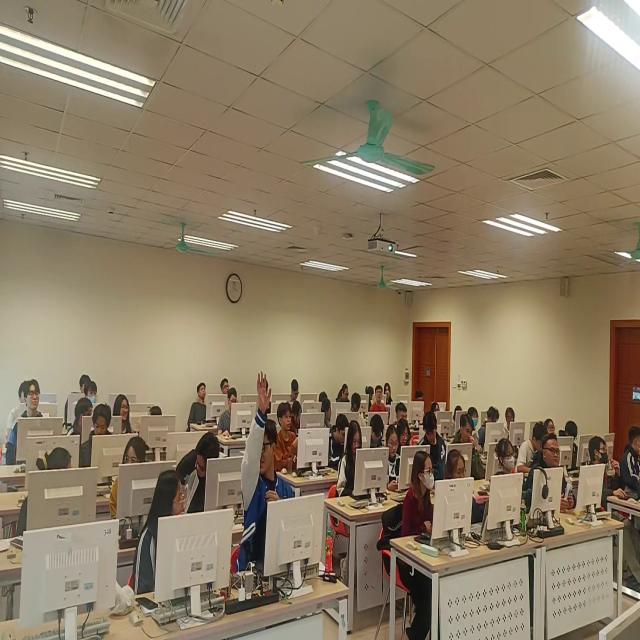raise_hand: (241, 368, 294, 571)
raise_head: (528, 434, 577, 514), (10, 380, 42, 468), (277, 399, 299, 470), (7, 381, 27, 442), (187, 381, 210, 429), (494, 437, 521, 472), (112, 390, 132, 433), (469, 405, 485, 452), (373, 384, 387, 415), (86, 380, 100, 404), (506, 407, 516, 433), (545, 415, 557, 436), (384, 381, 393, 403), (220, 378, 232, 394), (80, 371, 89, 392), (432, 398, 442, 413)
using_computer: (445, 449, 489, 537), (400, 448, 437, 538), (588, 435, 623, 507), (339, 421, 363, 499), (517, 419, 545, 473), (623, 424, 640, 504), (220, 384, 240, 442), (327, 414, 348, 469), (561, 420, 583, 472), (481, 404, 501, 445), (349, 391, 367, 425), (423, 409, 440, 441), (385, 421, 399, 458), (369, 414, 384, 446), (396, 416, 411, 445), (292, 401, 306, 432), (337, 377, 352, 404), (453, 404, 463, 437), (396, 403, 411, 420), (290, 376, 300, 401), (416, 390, 425, 406)
